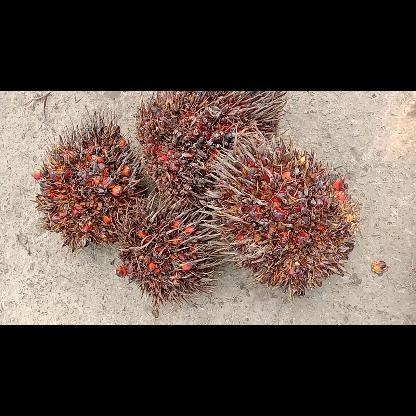Terlalu masak: (195, 126, 360, 301), (129, 90, 290, 200), (30, 107, 150, 254), (110, 188, 228, 314)
